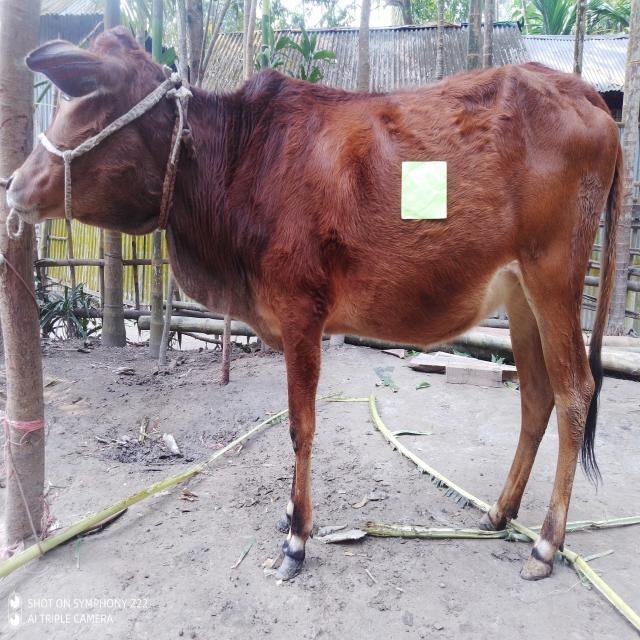badan_sapi: (286, 89, 587, 345)
sapi: (1, 22, 628, 586)
